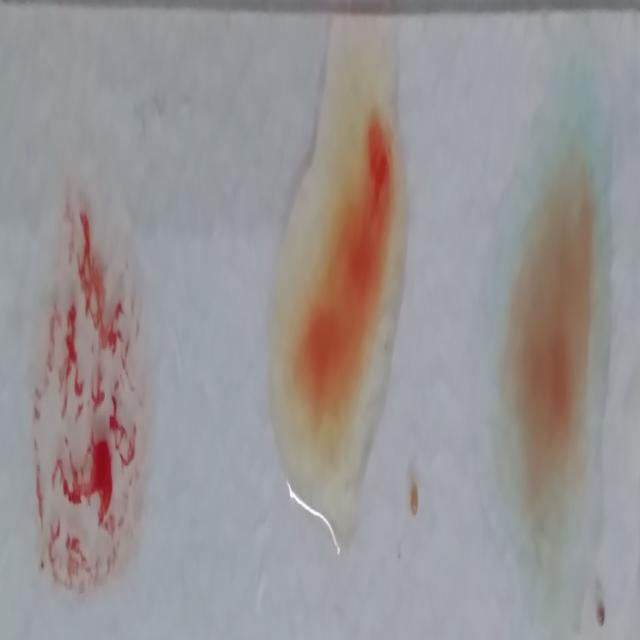D: (30, 175, 138, 610)
